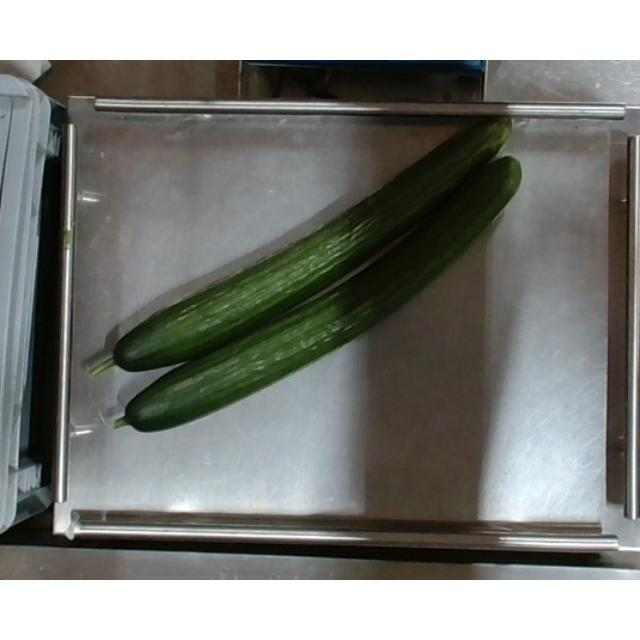cucumber: (87, 110, 515, 382), (114, 154, 522, 436)
